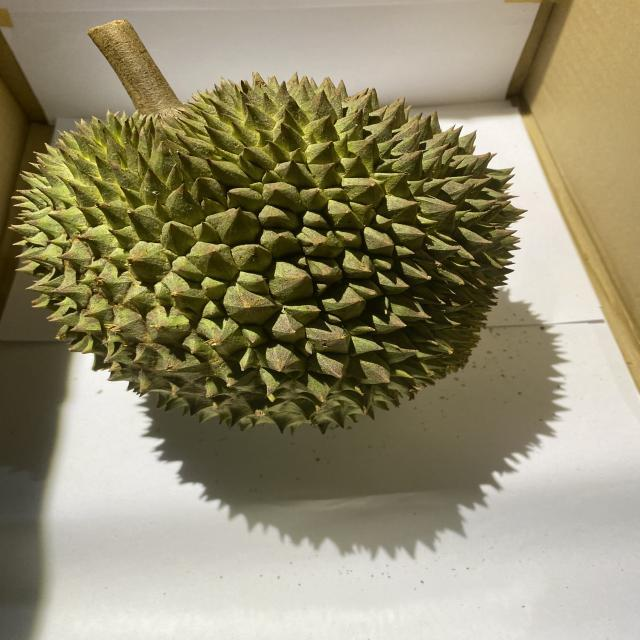immature: (8, 70, 524, 438)
